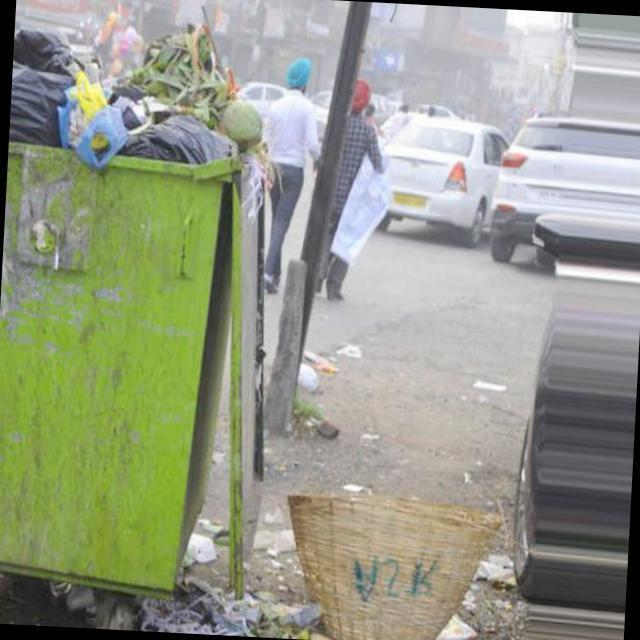garbage: (150, 454, 532, 640), (5, 0, 290, 224), (293, 340, 374, 404), (468, 371, 518, 405)
